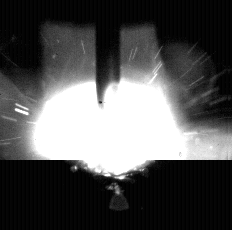arame: (96, 0, 122, 108)
poca: (32, 0, 182, 230)
